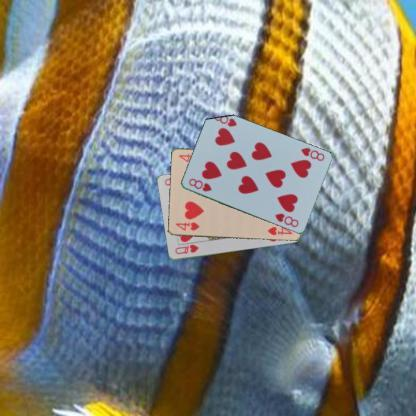4h: (172, 220, 200, 232)
8h: (186, 176, 213, 193), (298, 145, 325, 162)
Qh: (173, 242, 200, 256)
